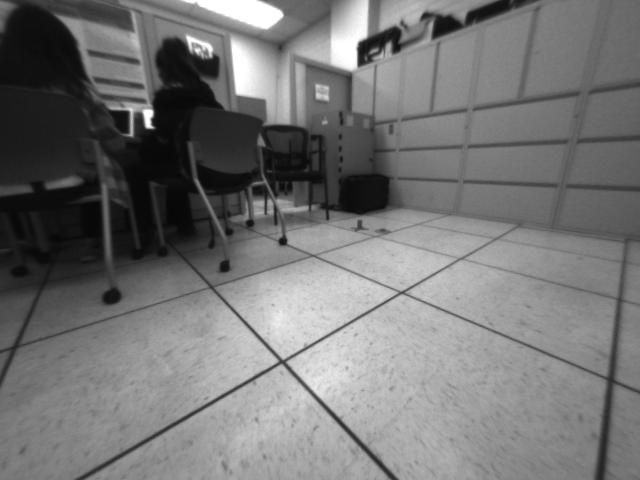X: (349, 218, 370, 234)
